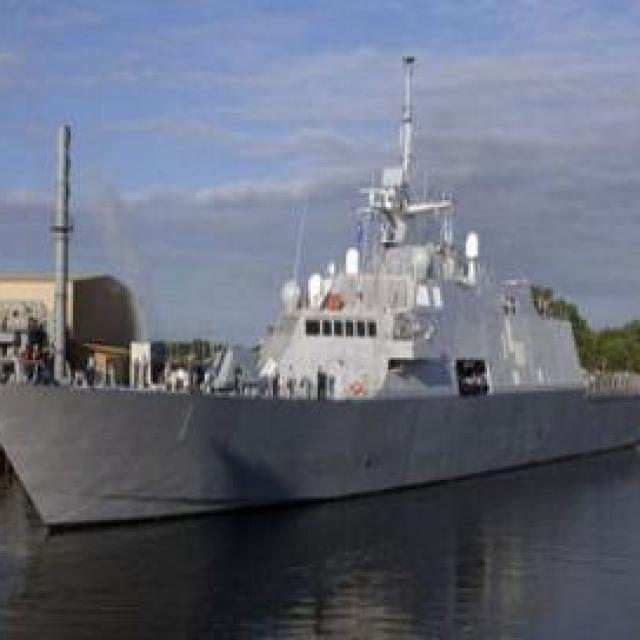navalvessels: (0, 33, 628, 546)
